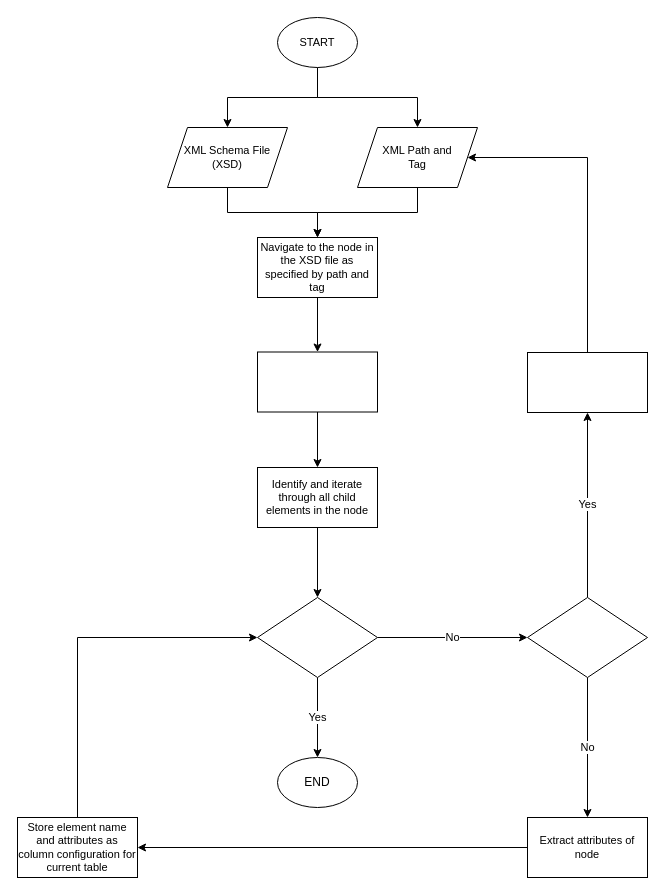
This 665x895 diagram has some shape labels left out. Each missing label, with the centre of its shape:
"Does element have any child elements?" belongs at [587,637].
"Extract node path and tag" belongs at [587,382].
"Have all child elements been iterated through?" belongs at [317,637].
"Store element name attribute as table name" belongs at [317,381].
